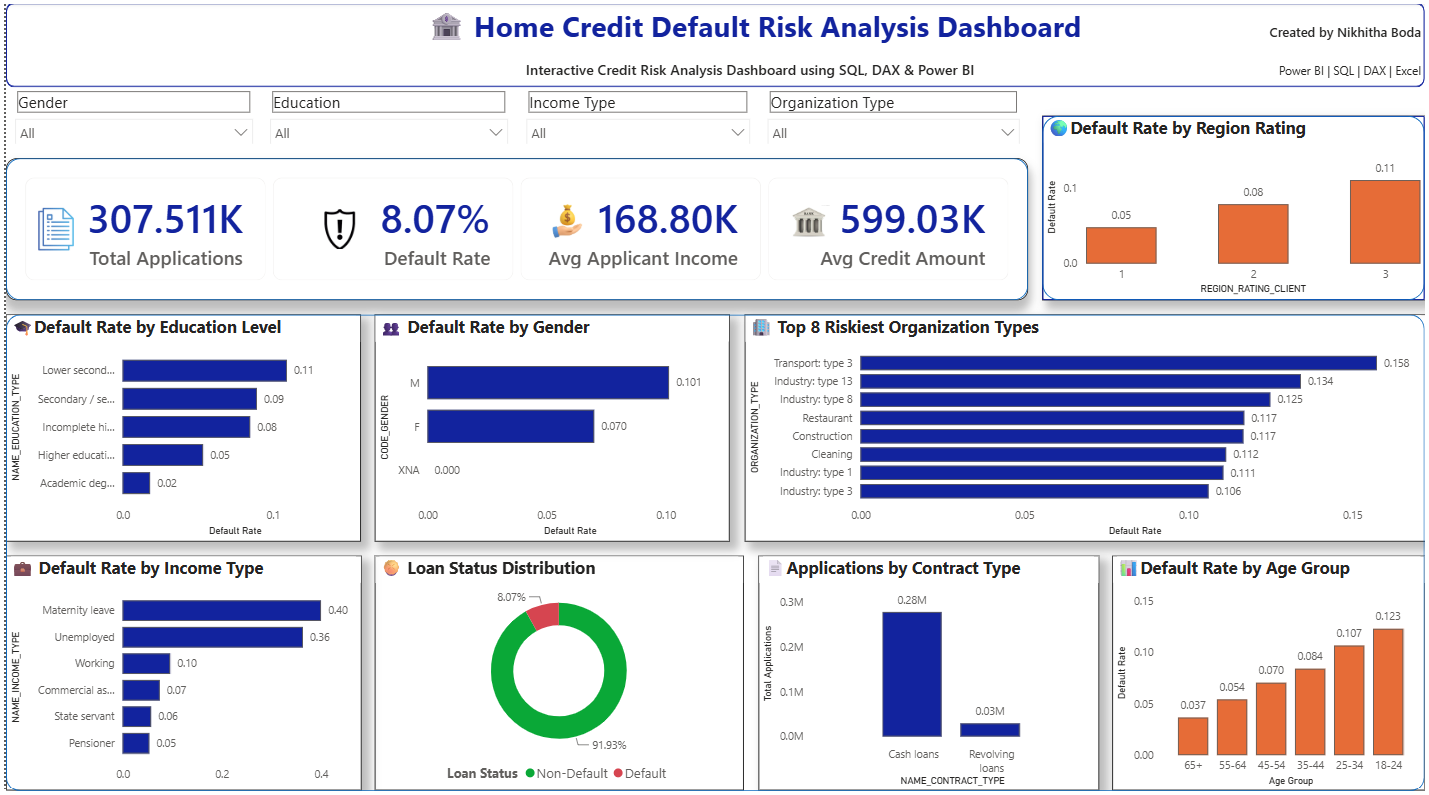

The page's visual inventory and layout, read from the dashboard file:
{"tool":"powerbi","page":{"name":"Page 1","canvas":[1600,900],"ordinal":0},"visuals":[{"type":"cardVisual","fields":{"Data":["home_credit_project application_train.Total Applications","home_credit_project application_train.Default Rate","home_credit_project application_train.Avg Applicant Income","home_credit_project application_train.Avg Credit Amount"]},"box":[0,176,1152,160],"z":0},{"type":"textbox","box":[0,0,1600,96],"z":1000},{"type":"slicer","fields":{"Values":["home_credit_project application_train.CODE_GENDER"]},"box":[0,96,288,64],"z":2000},{"type":"slicer","fields":{"Values":["home_credit_project application_train.NAME_INCOME_TYPE"]},"box":[576,96,272,64],"z":3000},{"type":"slicer","fields":{"Values":["home_credit_project application_train.NAME_EDUCATION_TYPE"]},"box":[288,96,288,64],"z":4000},{"type":"slicer","fields":{"Values":["home_credit_project application_train.ORGANIZATION_TYPE"]},"box":[848,96,304,64],"z":5000},{"type":"clusteredBarChart","title":"🎓Default Rate by Education Level","fields":{"Category":["home_credit_project application_train.NAME_EDUCATION_TYPE"],"Y":["home_credit_project application_train.Default Rate"]},"box":[0,352,400,256],"z":6000},{"type":"clusteredBarChart","title":"🏢 Top 8 Riskiest Organization Types","fields":{"Y":["home_credit_project application_train.Default Rate"],"Category":["home_credit_project application_train.ORGANIZATION_TYPE"]},"box":[832,352,768,256],"z":7000},{"type":"donutChart","title":"🥧 Loan Status Distribution","fields":{"Y":["home_credit_project application_train.Total Applications"],"Category":["home_credit_project application_train.Loan Status"]},"box":[415.8,623.6,415.8,266],"z":8000},{"type":"clusteredBarChart","title":"👥 Default Rate by Gender","fields":{"Category":["home_credit_project application_train.CODE_GENDER"],"Y":["home_credit_project application_train.Default Rate"]},"box":[416,352,400,256],"z":9000},{"type":"clusteredBarChart","title":"💼 Default Rate by Income Type","fields":{"Category":["home_credit_project application_train.NAME_INCOME_TYPE"],"Y":["home_credit_project application_train.Default Rate"]},"box":[0,623.6,400.5,266],"z":10000},{"type":"clusteredColumnChart","title":"📄Applications by Contract Type","fields":{"Category":["home_credit_project application_train.NAME_CONTRACT_TYPE"],"Y":["home_credit_project application_train.Total Applications"]},"box":[848.3,623.6,383.7,266],"z":11000},{"type":"clusteredColumnChart","title":"📊Default Rate by Age Group","fields":{"Category":["home_credit_project application_train.Age Group"],"Y":["home_credit_project application_train.Default Rate"]},"box":[1247.3,623.6,353.1,266],"z":12000},{"type":"clusteredColumnChart","title":"🌍Default Rate by Region Rating","fields":{"Category":["home_credit_project application_train.REGION_RATING_CLIENT"],"Y":["home_credit_project application_train.Default Rate"]},"box":[1167.8,128.4,432.6,207.9],"z":13000},{"type":"shape","box":[0,176,1152,160],"z":14000},{"type":"image","box":[32,224,48,64],"z":15000},{"type":"image","box":[352,224,48,64],"z":16000},{"type":"image","box":[608,224,48,48],"z":17000},{"type":"image","box":[880,224,48,48],"z":18000},{"type":"shape","box":[0,0,1598.9,96.3],"z":19000},{"type":"shape","box":[0,2,1599,94],"z":20000},{"type":"shape","box":[1167.8,128.4,431,207.9],"z":21000},{"type":"shape","box":[1167.8,128.4,431,207.9],"z":22000},{"type":"shape","box":[0,351.6,1598.9,538],"z":23000},{"type":"shape","box":[1167.8,128.4,431,207.9],"z":24000}]}

Visuals, with their boxes in screenshot pixels (x1, y1, x2, y2), scaled from the page's 1600x900 canvas onto the 1429x795 screenshot:
cardVisual - home_credit_project application_train.Total Applications x home_credit_project application_train.Default Rate: <region>0, 155, 1029, 297</region>
textbox: <region>0, 0, 1428, 85</region>
slicer - home_credit_project application_train.CODE_GENDER: <region>0, 85, 257, 141</region>
slicer - home_credit_project application_train.NAME_INCOME_TYPE: <region>514, 85, 757, 141</region>
slicer - home_credit_project application_train.NAME_EDUCATION_TYPE: <region>257, 85, 514, 141</region>
slicer - home_credit_project application_train.ORGANIZATION_TYPE: <region>757, 85, 1029, 141</region>
"🎓Default Rate by Education Level" clusteredBarChart: <region>0, 311, 357, 537</region>
"🏢 Top 8 Riskiest Organization Types" clusteredBarChart: <region>743, 311, 1428, 537</region>
"🥧 Loan Status Distribution" donutChart: <region>371, 551, 743, 786</region>
"👥 Default Rate by Gender" clusteredBarChart: <region>372, 311, 729, 537</region>
"💼 Default Rate by Income Type" clusteredBarChart: <region>0, 551, 358, 786</region>
"📄Applications by Contract Type" clusteredColumnChart: <region>758, 551, 1100, 786</region>
"📊Default Rate by Age Group" clusteredColumnChart: <region>1114, 551, 1428, 786</region>
"🌍Default Rate by Region Rating" clusteredColumnChart: <region>1043, 113, 1428, 297</region>
shape: <region>0, 155, 1029, 297</region>
image: <region>29, 198, 71, 254</region>
image: <region>314, 198, 357, 254</region>
image: <region>543, 198, 586, 240</region>
image: <region>786, 198, 829, 240</region>
shape: <region>0, 0, 1428, 85</region>
shape: <region>0, 2, 1428, 85</region>
shape: <region>1043, 113, 1428, 297</region>
shape: <region>1043, 113, 1428, 297</region>
shape: <region>0, 311, 1428, 786</region>
shape: <region>1043, 113, 1428, 297</region>
